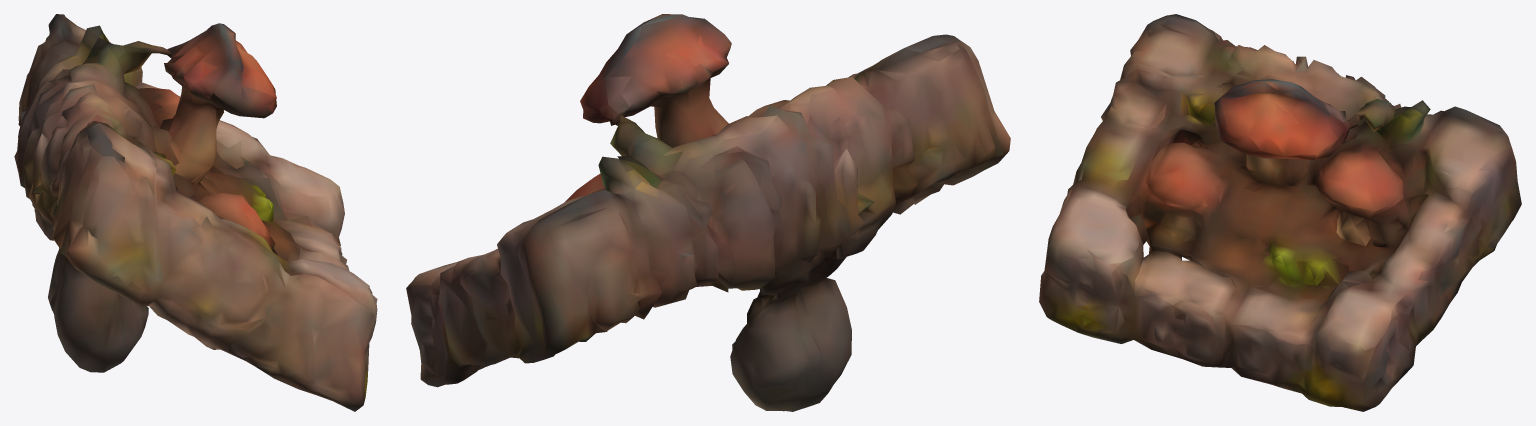
File: farm_plot.glb
The picture shows the model from 3 angles, left to right: view 1: azimuth 30°, elevation 25°; view 2: azimuth 150°, elevation 25°; view 3: azimuth 270°, elevation 25°; orthographic projection. The views are drawn at different scales.
Parts seen in each view (by area): view 1: model; view 2: model; view 3: model.
Boxes of the visible parts, x1,y1,x2,y2 form: model: (14, 14, 377, 411); model: (406, 14, 1010, 411); model: (1039, 14, 1521, 411).
Size of the model in its own units: 1.3 by 0.9874 by 1.6.
1 material, 1 textured.
